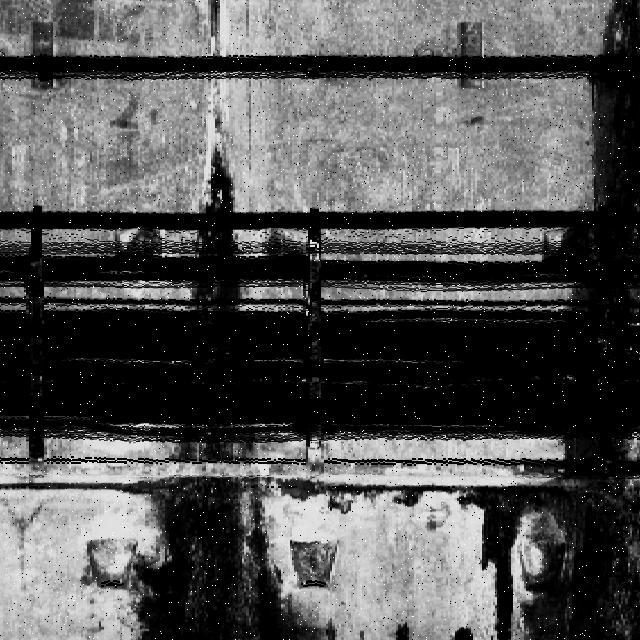leakage: (119, 143, 320, 639), (532, 2, 639, 323), (449, 487, 639, 640), (542, 434, 639, 472)
